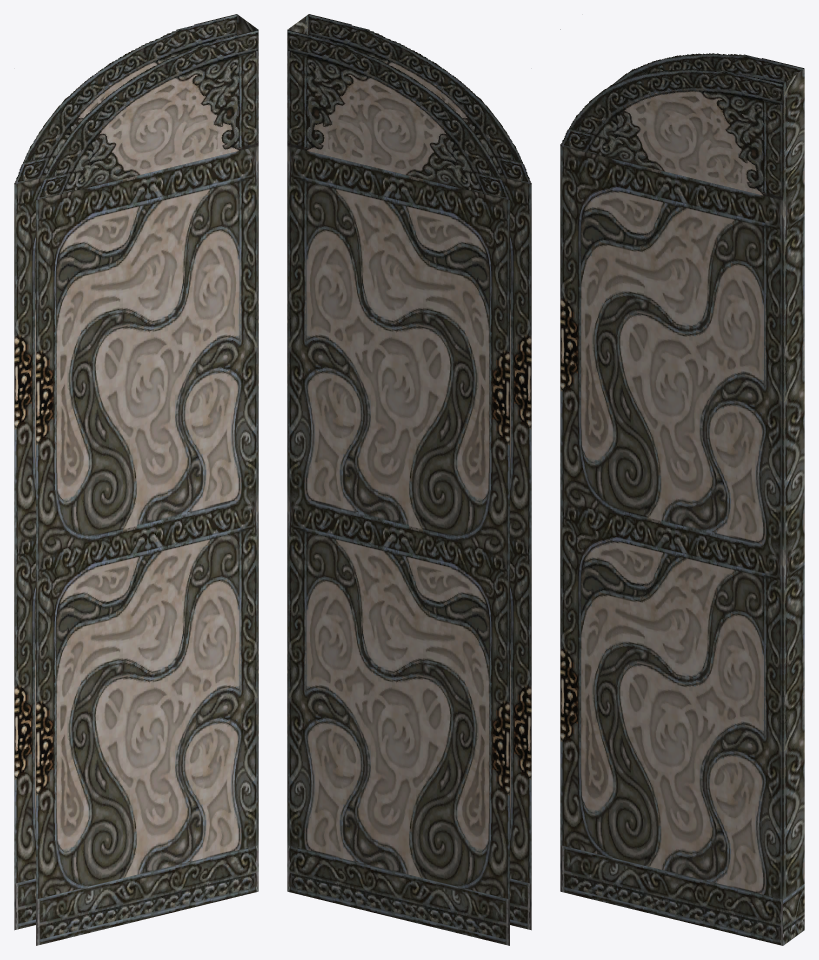
File: INST_EKH_DOORRT.fbx
3 renders of one model, left to right at view 1: azimuth 30°, elevation 25°; view 2: azimuth 150°, elevation 25°; view 3: azimuth 330°, elevation 25°, orthographic.
Visible parts, largest first — view 1: INST_EKH_DOORRT; view 2: INST_EKH_DOORRT; view 3: INST_EKH_DOORRT.
Boxes of the visible parts, x1,y1,x2,y2 form: INST_EKH_DOORRT: (14, 14, 258, 945); INST_EKH_DOORRT: (287, 14, 531, 945); INST_EKH_DOORRT: (560, 29, 804, 945).
Size of the model in its own units: 21400 by 79176 by 3576.
Materials: 3 (3 with a texture image).
